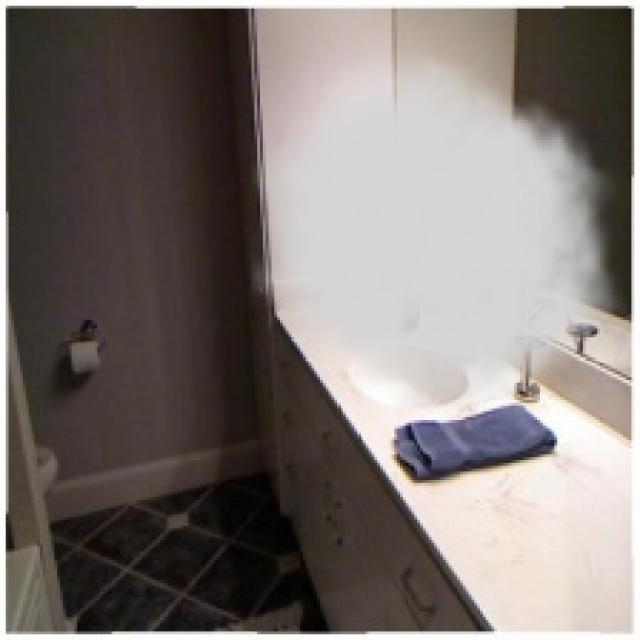smoke: (252, 43, 632, 428)
